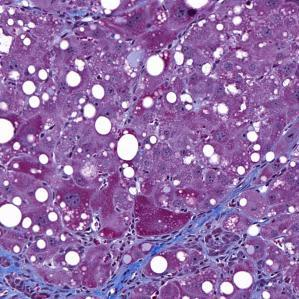fibrosis: (5, 253, 141, 296), (180, 197, 261, 269)
